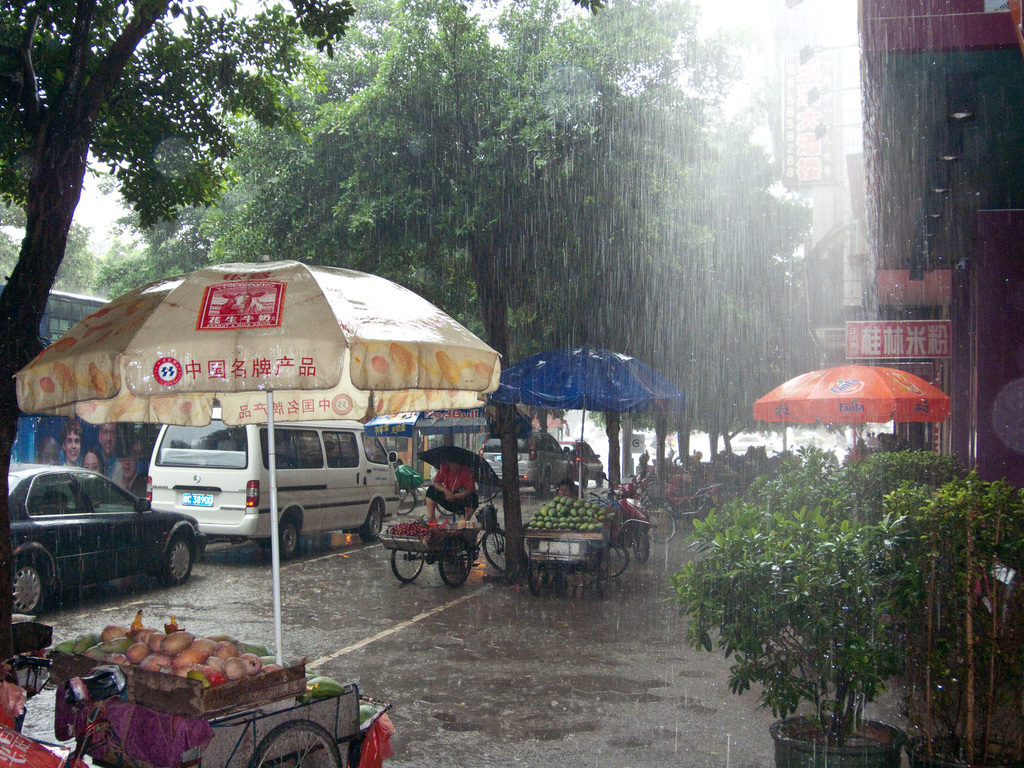Car: (0, 464, 198, 614), (480, 427, 571, 492)
